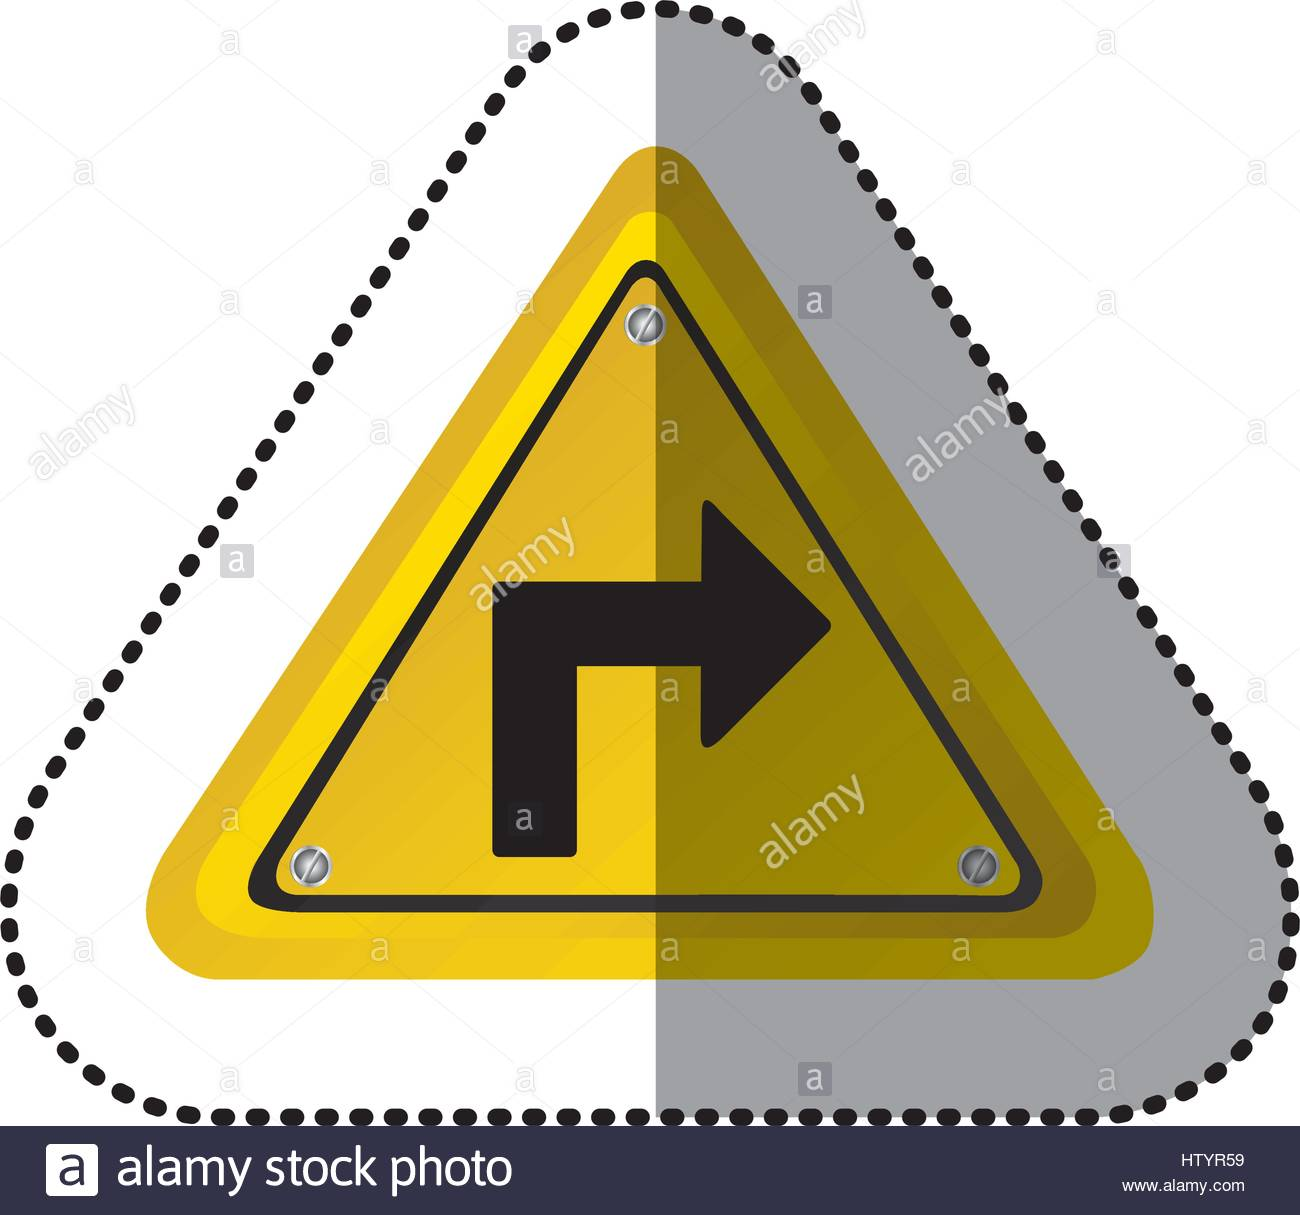right: (479, 493, 846, 866)
